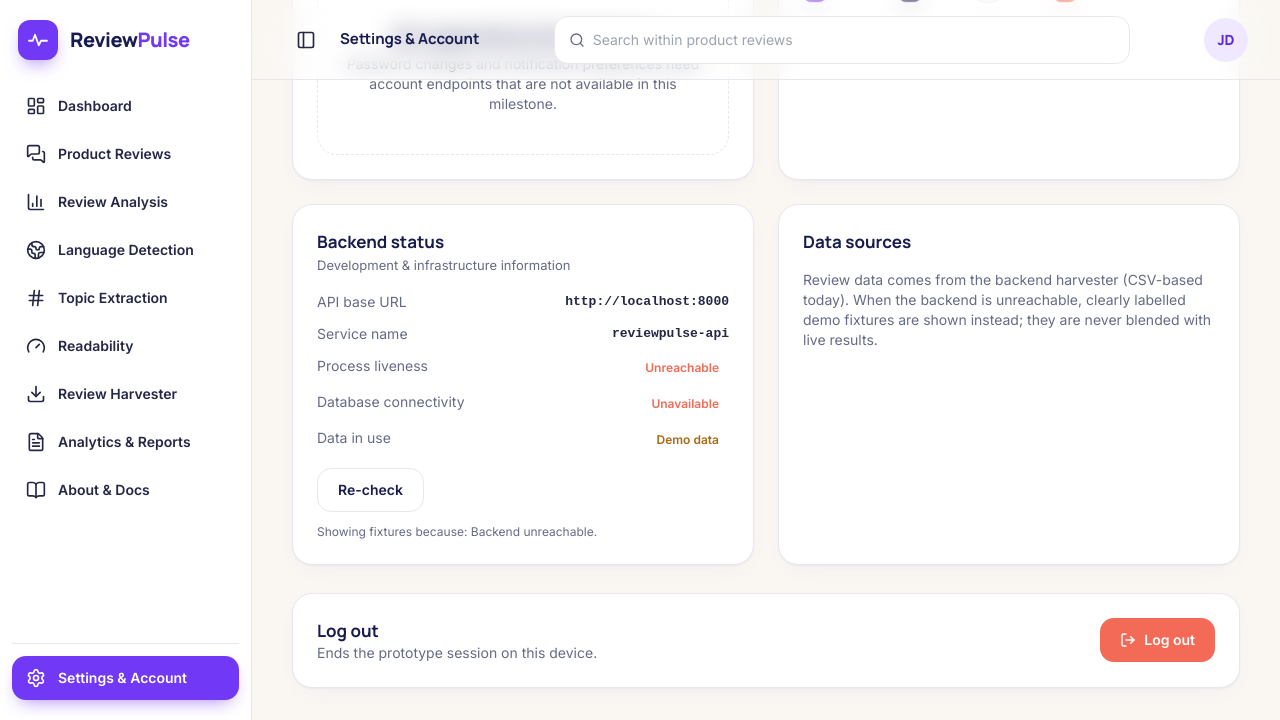
Test: data honesty › settings view prompts user with confirmation dialog before logout
(page scrolled)
Click the button "Log out": (1158,640) left=1100, top=618, right=1215, bottom=662
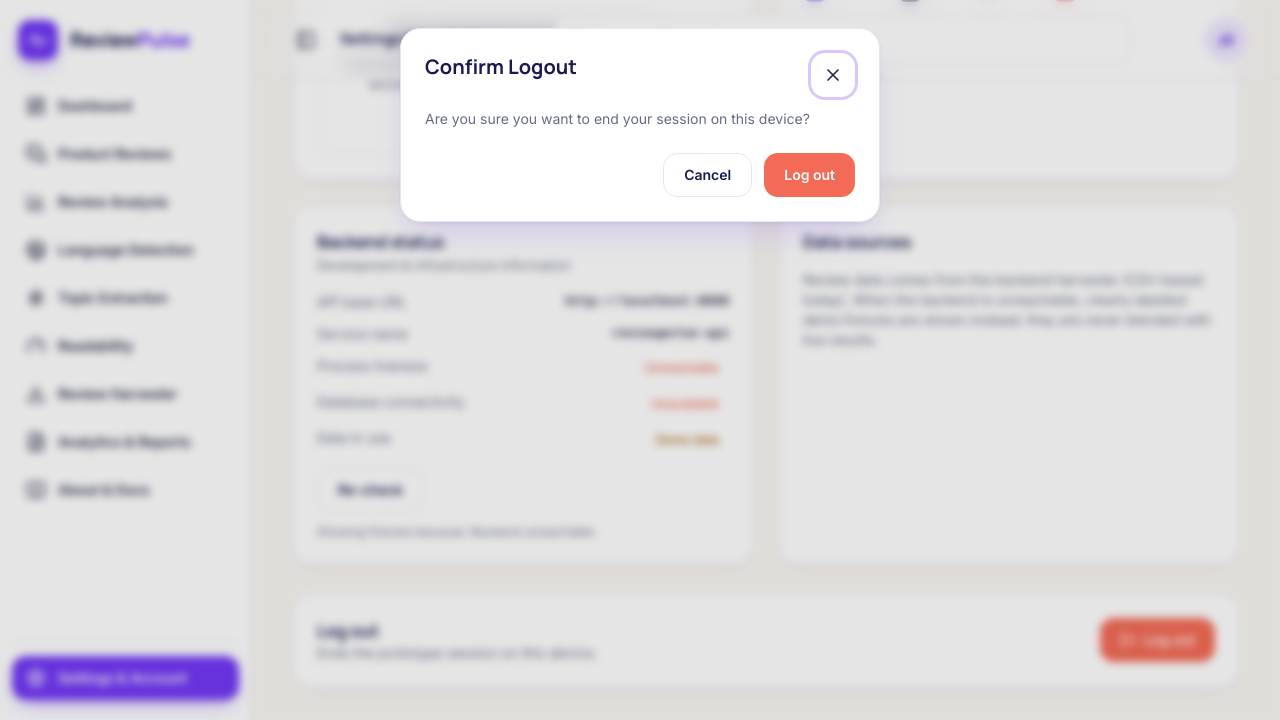
Check: the dialog is shown, box left=400, top=28, right=880, bottom=222
Check: the text "Are you sure you want to end your session on this device?" is shown, box left=425, top=109, right=855, bottom=129
